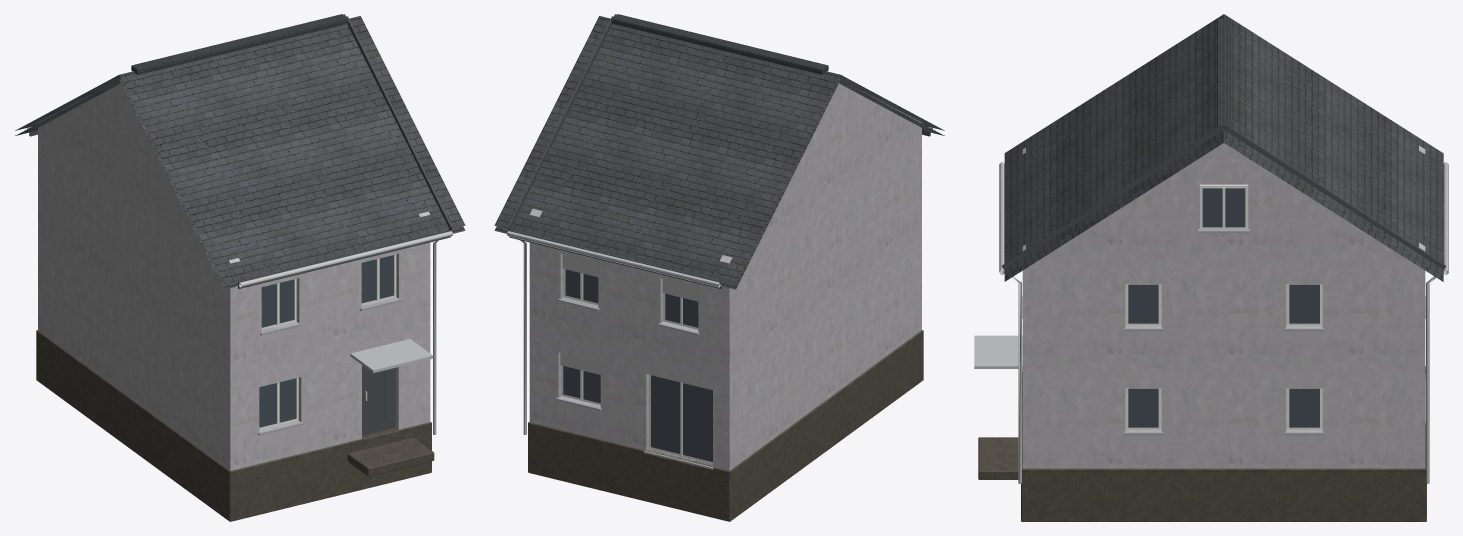
File: house-terrace-end-e.glb
3 views of the same model, side by side, from view 1: azimuth 30°, elevation 25°; view 2: azimuth 150°, elevation 25°; view 3: azimuth 270°, elevation 25° (orthographic). The views are drawn at different scales.
Visible parts, largest first — view 1: house-terrace-end-e-plaster0; view 2: house-terrace-end-e-plaster0; view 3: house-terrace-end-e-plaster0.
Part boxes in pixels (x1,y1,x2,y2): house-terrace-end-e-plaster0: (15,14,465,521); house-terrace-end-e-plaster0: (494,14,944,521); house-terrace-end-e-plaster0: (974,14,1448,521).
Size of the model in its own units: 7.25 by 11.02 by 11.78.
Materials: 10 (4 with a texture image).
